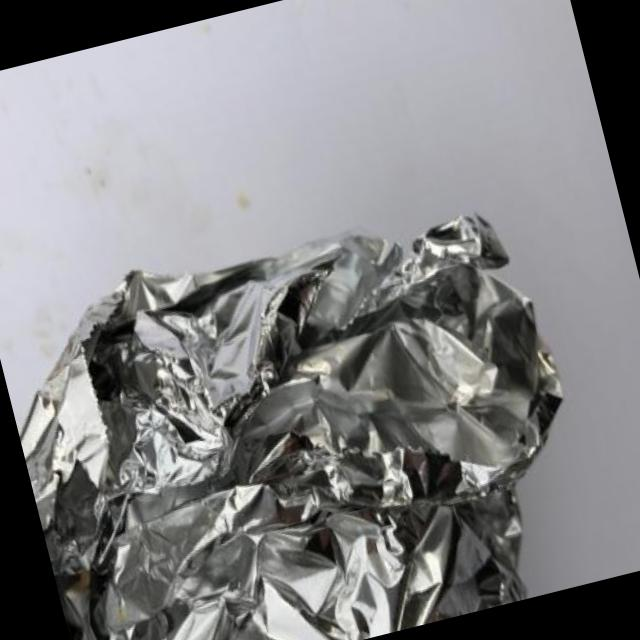kim_loai: (19, 216, 563, 640)
